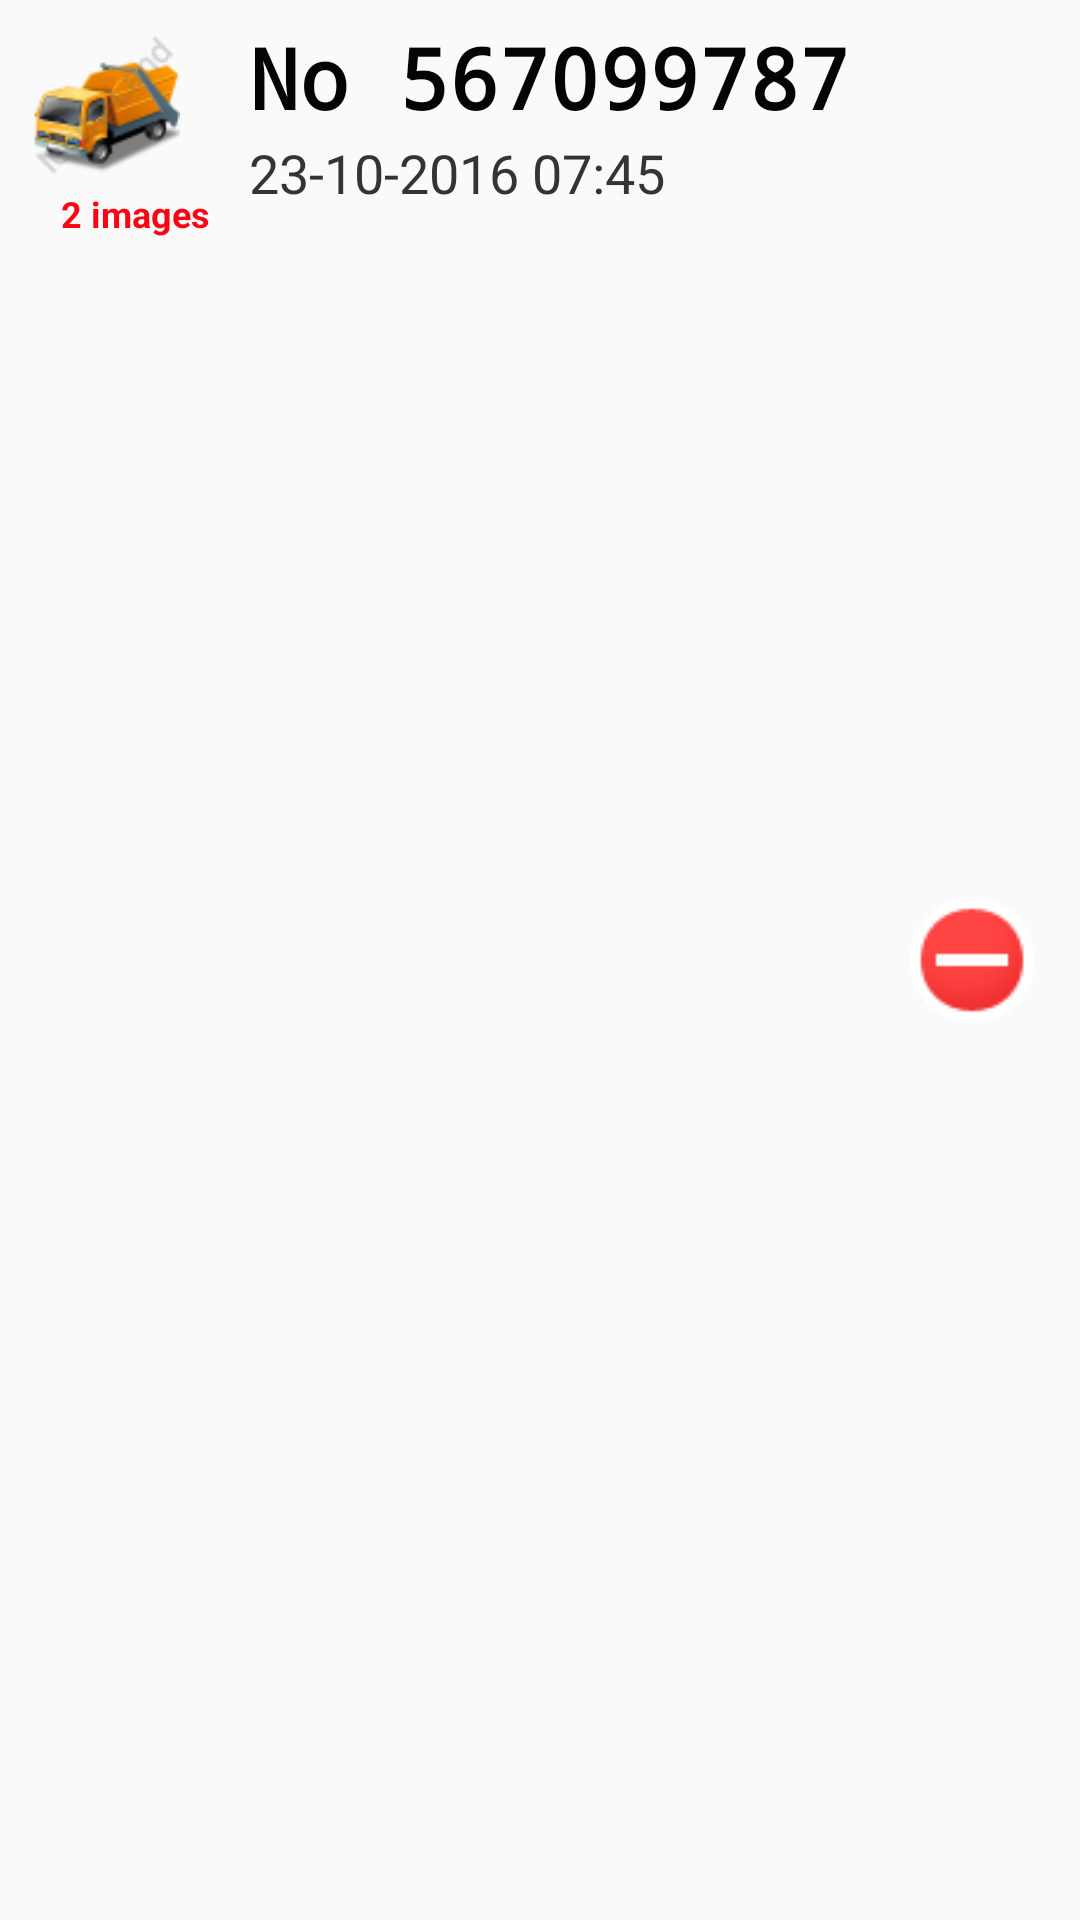

Where to tap for icons on this 1080 × 1920 app screen, as [x,y]:
presence busy: [972,960]
truck: [107,105]
